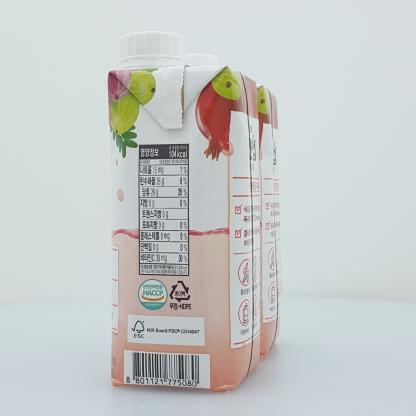--------------330ML: (107, 31, 260, 393)
